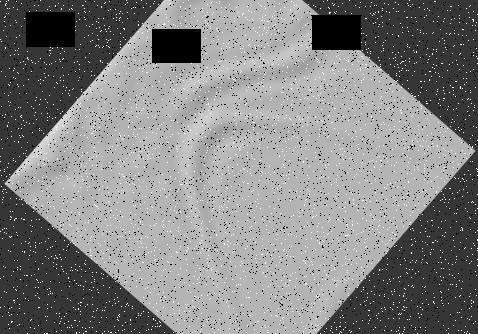Hyperbola: (77, 0, 465, 334)
